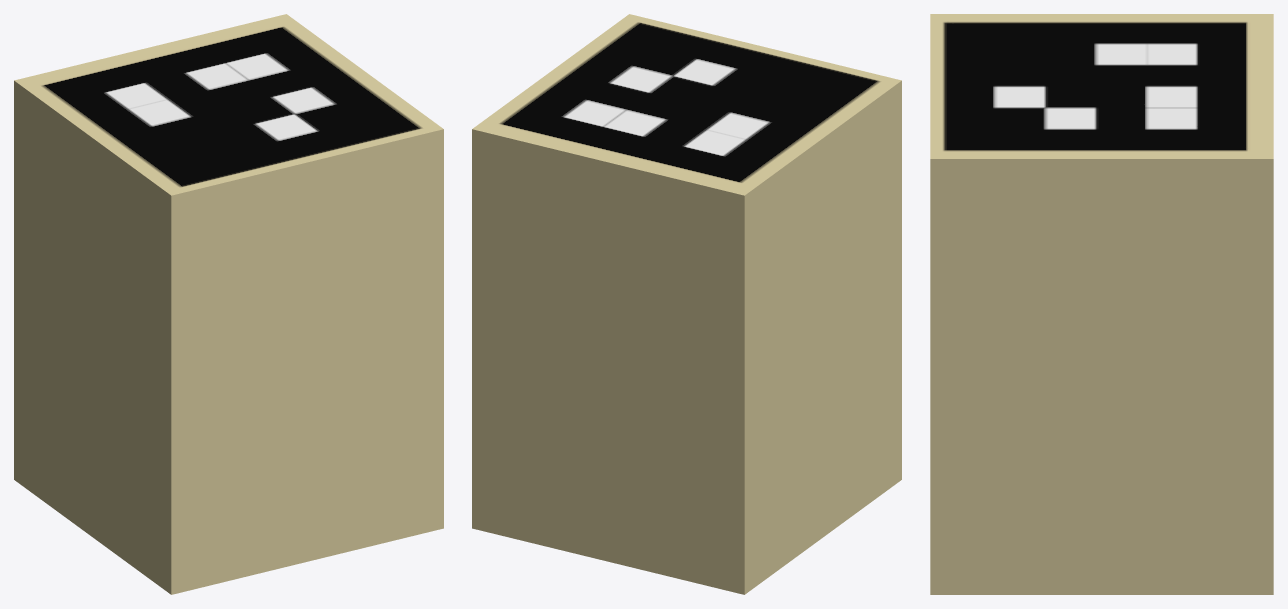
3 renders of one model, left to right at view 1: azimuth 30°, elevation 25°; view 2: azimuth 150°, elevation 25°; view 3: azimuth 270°, elevation 25°, orthographic. The views are drawn at different scales.
Visible parts, largest first — view 1: Cube; view 2: Cube; view 3: Cube.
Boxes of the visible parts, x1=… form: Cube: x1=14, y1=14, x2=443, y2=594; Cube: x1=472, y1=14, x2=901, y2=594; Cube: x1=930, y1=14, x2=1273, y2=594.
Bounding box in the file's own units: 0.05 × 0.05 × 0.07.
1 material, 1 textured.
